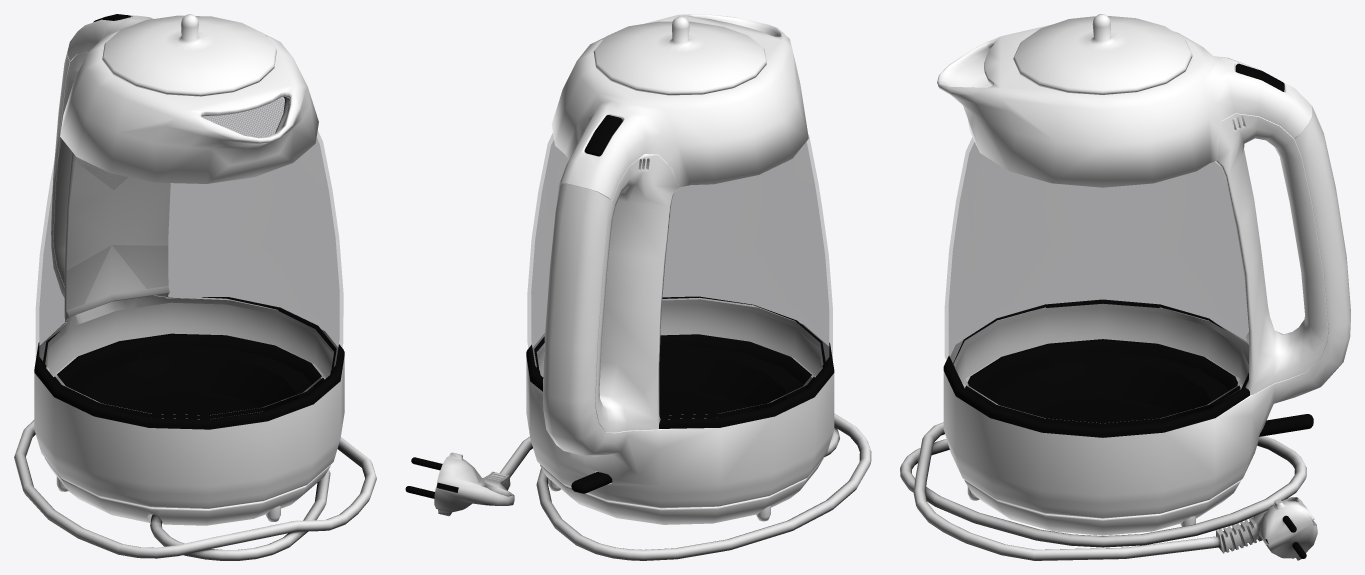
File: glass_kettle.glb
3 views of the same model, side by side, from view 1: azimuth 30°, elevation 25°; view 2: azimuth 150°, elevation 25°; view 3: azimuth 270°, elevation 25° (orthographic). The views are drawn at different scales.
Visible parts, largest first — view 1: Object_4, Object_3, Object_5, Object_6; view 2: Object_4, Object_3, Object_5, Object_6; view 3: Object_4, Object_3, Object_5, Object_6.
Part boxes in pixels (x1,y1,x2,y2): Object_4: (34,15,344,508); Object_3: (36,98,342,418); Object_5: (14,14,376,560); Object_6: (45,14,330,525); Object_4: (526,14,834,508); Object_3: (528,134,832,419); Object_5: (405,115,871,560); Object_6: (540,16,823,524); Object_4: (937,24,1350,518); Object_3: (945,138,1248,426); Object_5: (900,63,1317,560); Object_6: (964,14,1240,535).
Size of what is drawn, in the model's own units: 0.1518 by 0.207 by 0.1781.
4 materials, 1 textured.
